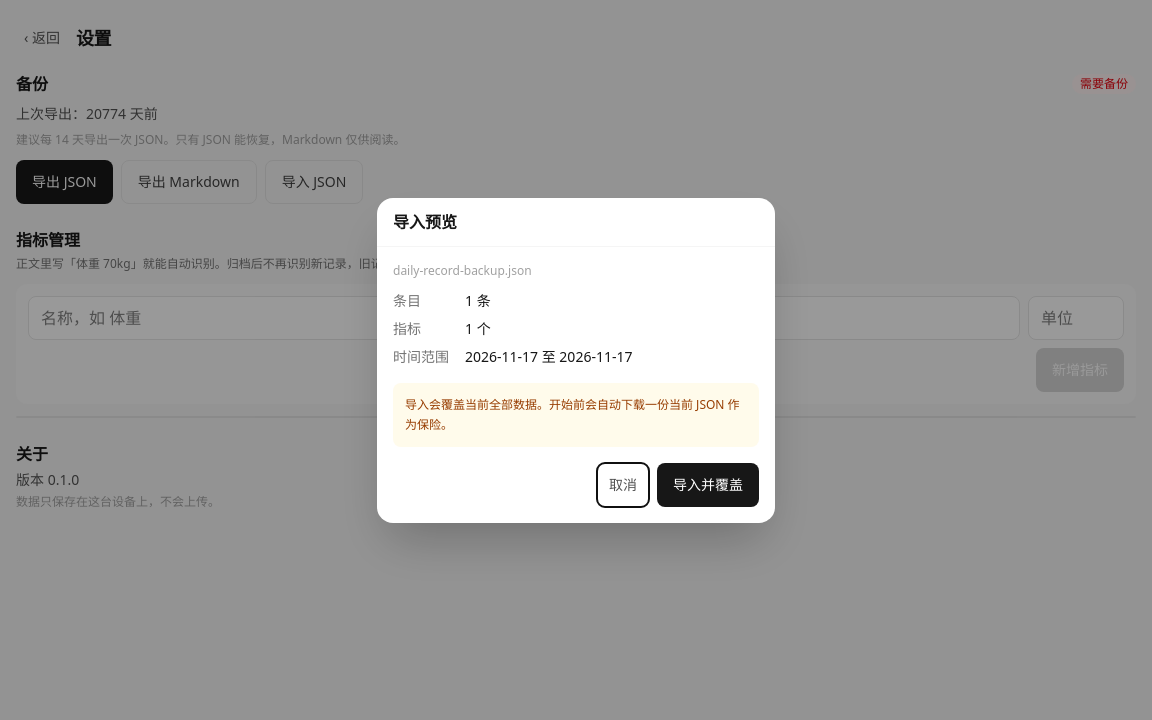
SettingsPage 导入 › 预览后覆盖导入并重建标签与指标，导入前先下载保险备份
Earlier steps of the test are not shown.
Expected: the text "1 条" is shown, x1=465 y1=290 x2=491 y2=310
Expected: the text "1 个" is shown, x1=465 y1=318 x2=491 y2=338
Click the button "导入并覆盖" at (708, 484), box x1=657 y1=462 x2=759 y2=506
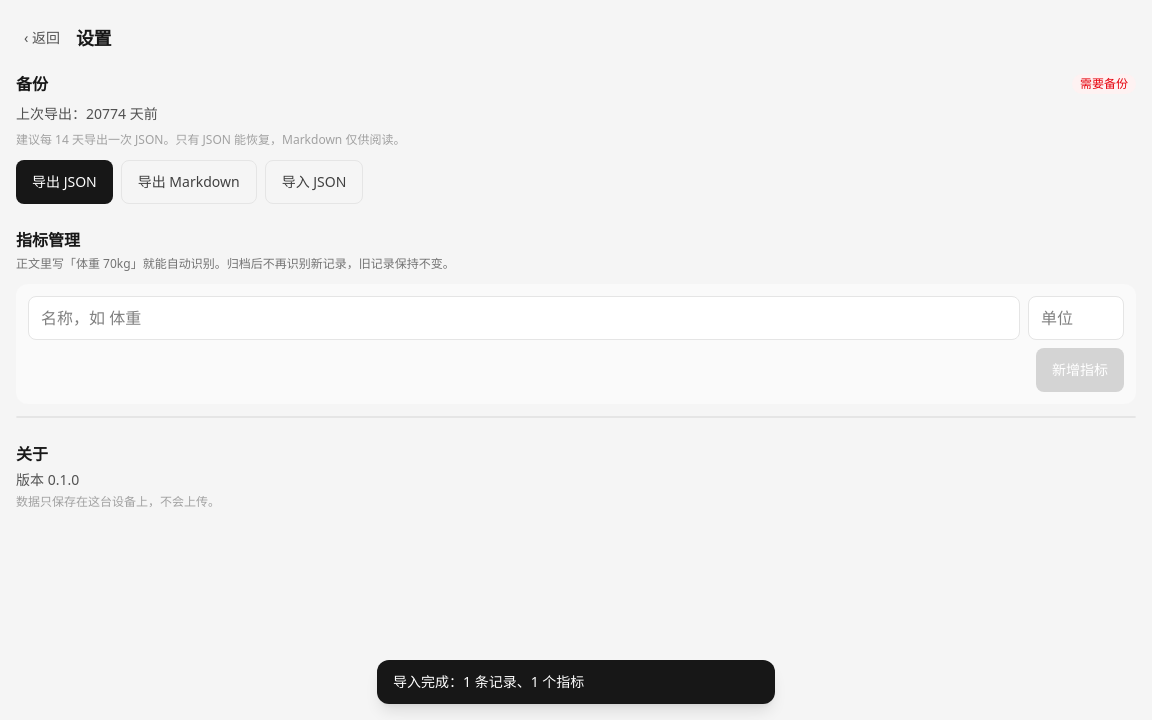
Expected: the message reads "导入完成：1 条记录、1 个指标", x1=393 y1=672 x2=584 y2=691
Expected: the heading "导入预览" is gone
